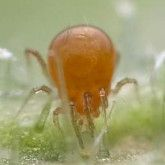Mites: (14, 20, 143, 163)
